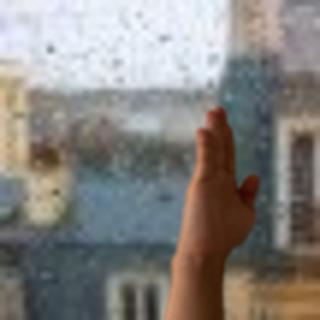RIGHT: (174, 102, 268, 270)
